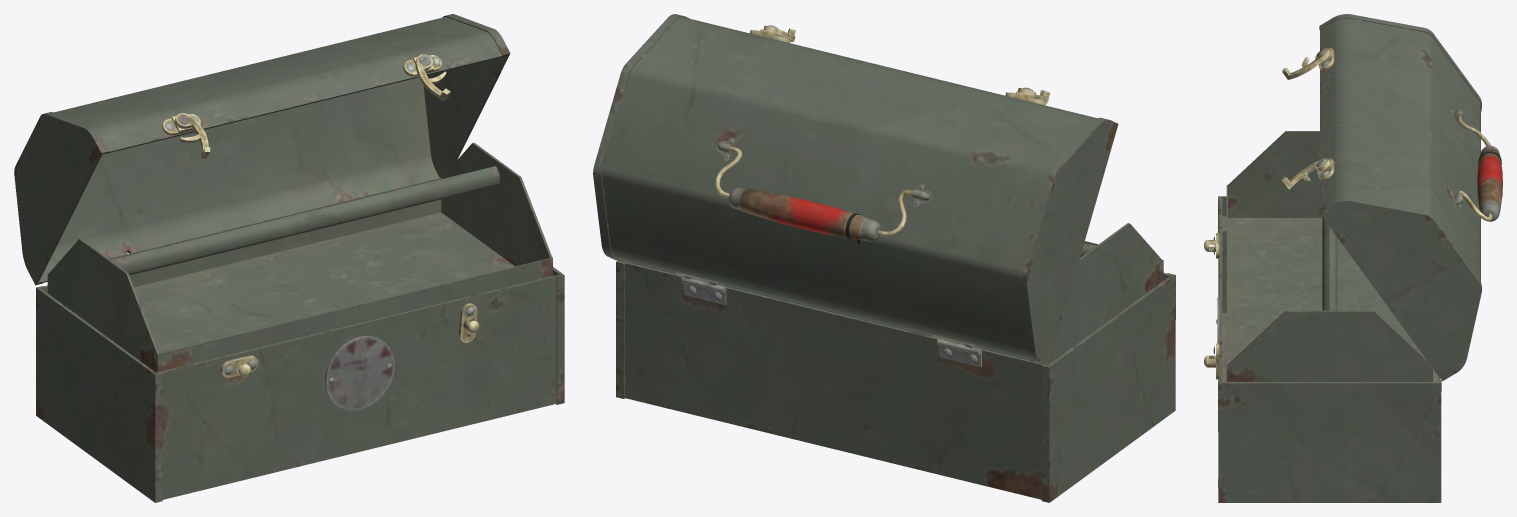
The model's file is metal_toolbox.glb.
3 renders of one model, left to right at view 1: azimuth 30°, elevation 25°; view 2: azimuth 150°, elevation 25°; view 3: azimuth 270°, elevation 25°, orthographic. The views are drawn at different scales.
Visible parts, largest first — view 1: metal_toolbox_lid, metal_toolbox, metal_toolbox_tray, metal_toolbox_handle_latch_r, metal_toolbox_handle_latch_l; view 2: metal_toolbox_lid, metal_toolbox, metal_toolbox_tray, metal_toolbox_handle; view 3: metal_toolbox_lid, metal_toolbox_tray, metal_toolbox, metal_toolbox_handle, metal_toolbox_handle_latch_l, metal_toolbox_handle_latch_r.
Boxes of the visible parts, x1,y1,x2,y2 form: metal_toolbox_lid: (14, 14, 510, 285); metal_toolbox: (36, 267, 564, 502); metal_toolbox_tray: (47, 142, 552, 372); metal_toolbox_handle_latch_r: (415, 54, 450, 100); metal_toolbox_handle_latch_l: (175, 113, 210, 158); metal_toolbox_lid: (593, 14, 1118, 365); metal_toolbox: (616, 260, 1175, 502); metal_toolbox_tray: (628, 223, 1163, 363); metal_toolbox_handle: (715, 146, 912, 244); metal_toolbox_lid: (1317, 14, 1481, 381); metal_toolbox_tray: (1226, 131, 1432, 381); metal_toolbox: (1204, 196, 1441, 502); metal_toolbox_handle: (1457, 114, 1502, 221); metal_toolbox_handle_latch_l: (1282, 48, 1330, 79); metal_toolbox_handle_latch_r: (1282, 158, 1330, 189).
Size of the model in its own units: 0.4 by 0.3047 by 0.2705.
Materials: 1 (1 with a texture image).
